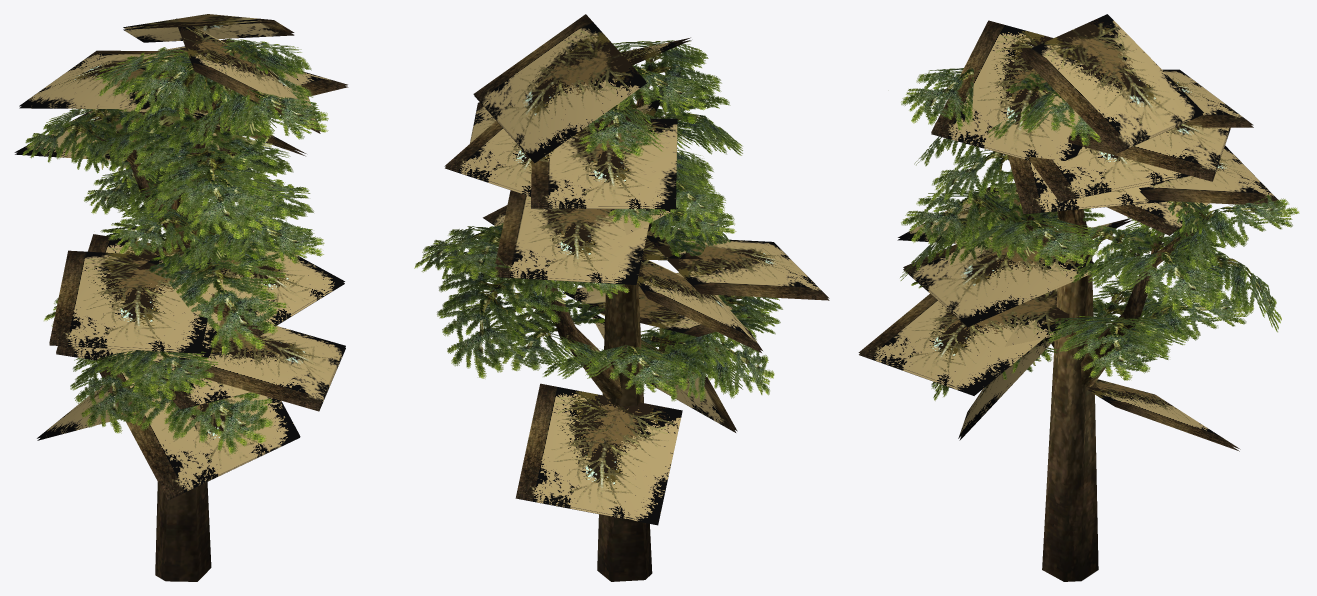
File: flora_tree_cedar_atlas_3_mature_v2.glb
The picture shows the model from 3 angles, left to right: view 1: azimuth 30°, elevation 25°; view 2: azimuth 150°, elevation 25°; view 3: azimuth 270°, elevation 25°; orthographic projection. The views are drawn at different scales.
Visible parts, largest first — view 1: flora_tree_cedar_atlas_3_mature_v2_part0, flora_tree_cedar_atlas_3_mature_v2_part1; view 2: flora_tree_cedar_atlas_3_mature_v2_part1, flora_tree_cedar_atlas_3_mature_v2_part0; view 3: flora_tree_cedar_atlas_3_mature_v2_part1, flora_tree_cedar_atlas_3_mature_v2_part0.
Boxes of the visible parts, x1=… form: flora_tree_cedar_atlas_3_mature_v2_part0: x1=22, y1=39, x2=328, y2=581; flora_tree_cedar_atlas_3_mature_v2_part1: x1=14, y1=14, x2=348, y2=500; flora_tree_cedar_atlas_3_mature_v2_part1: x1=444, y1=14, x2=829, y2=525; flora_tree_cedar_atlas_3_mature_v2_part0: x1=414, y1=40, x2=782, y2=581; flora_tree_cedar_atlas_3_mature_v2_part1: x1=858, y1=14, x2=1282, y2=451; flora_tree_cedar_atlas_3_mature_v2_part0: x1=900, y1=67, x2=1299, y2=581.
Size of the model in its own units: 21.16 by 31.23 by 22.91.
2 materials, 2 textured.
